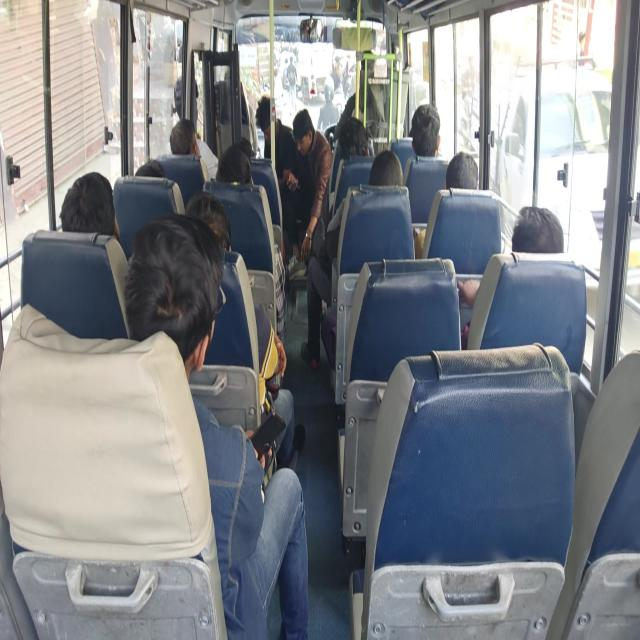person: (124, 214, 309, 638), (184, 191, 304, 470), (301, 149, 404, 369), (457, 204, 564, 348), (215, 142, 288, 343), (254, 95, 302, 261), (285, 108, 332, 276), (413, 151, 479, 258), (59, 170, 120, 242), (169, 118, 218, 181), (511, 205, 564, 253), (409, 103, 441, 157), (215, 143, 252, 184), (316, 77, 340, 133), (337, 116, 369, 158), (445, 151, 479, 190), (368, 149, 403, 186), (169, 118, 200, 156), (134, 158, 164, 178)
